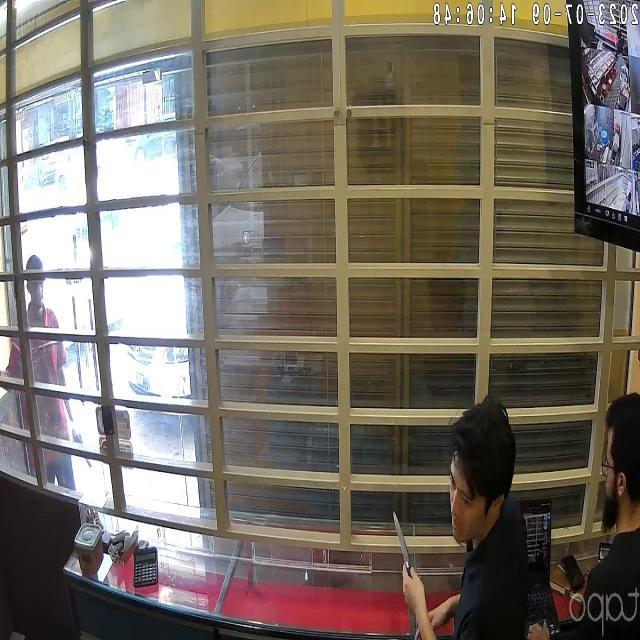Knife: (378, 508, 426, 578)
